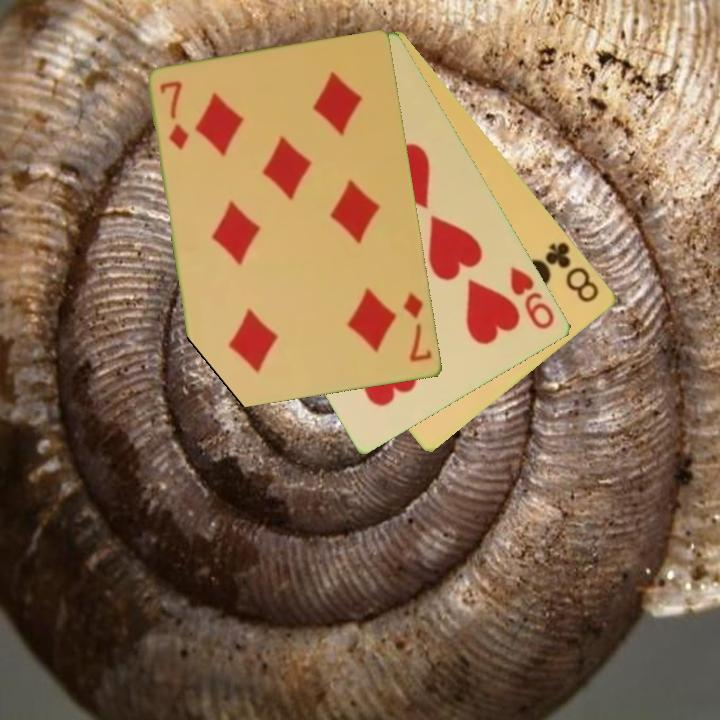7d: (156, 77, 193, 153), (400, 289, 436, 365)
8c: (542, 238, 603, 306)
9h: (507, 263, 558, 333)
